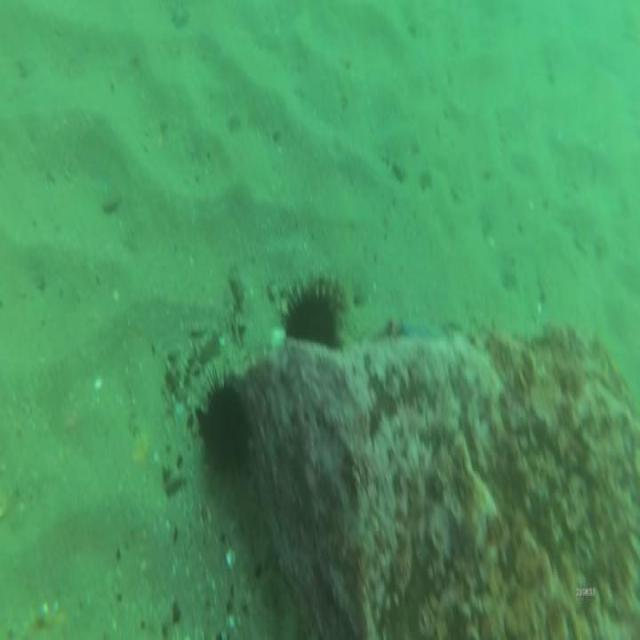echinus: (199, 373, 253, 485), (284, 272, 348, 354)
